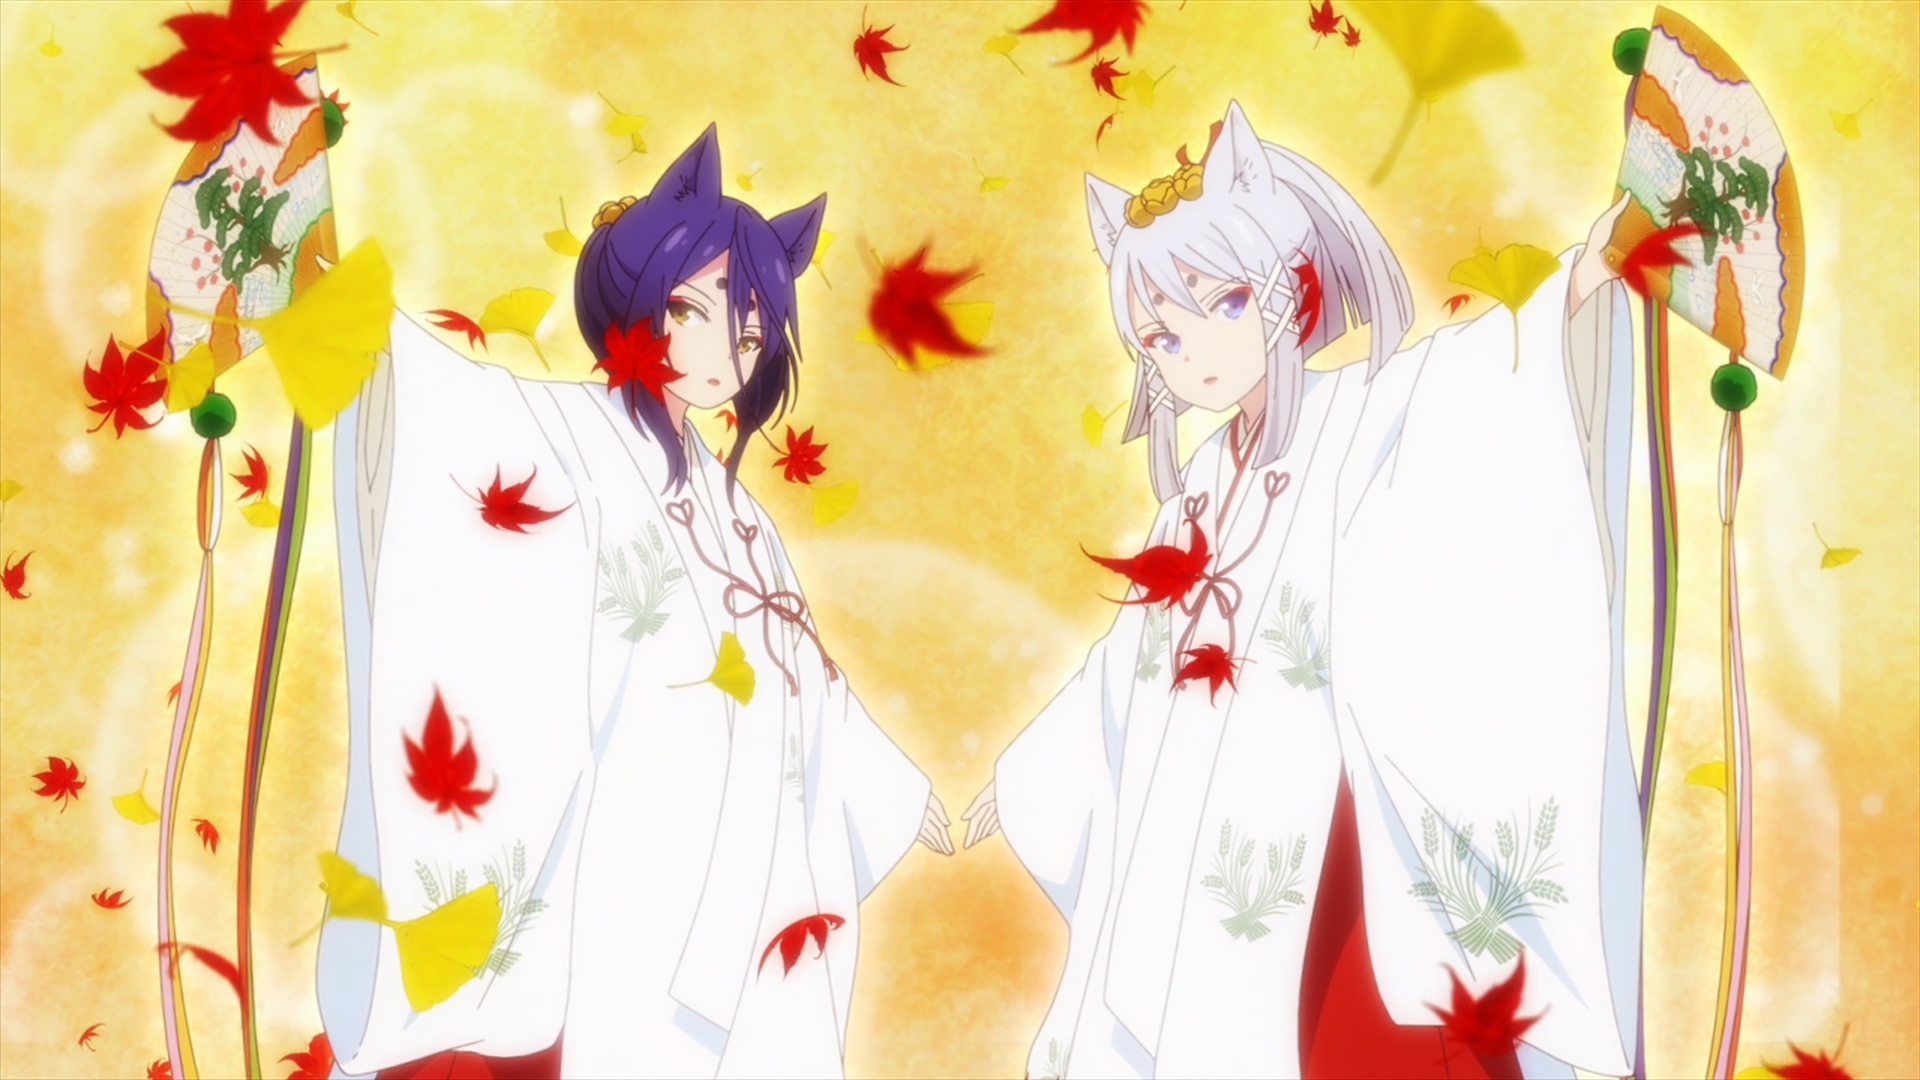柊: (961, 100, 1644, 1080)
皋: (316, 120, 953, 1080)
